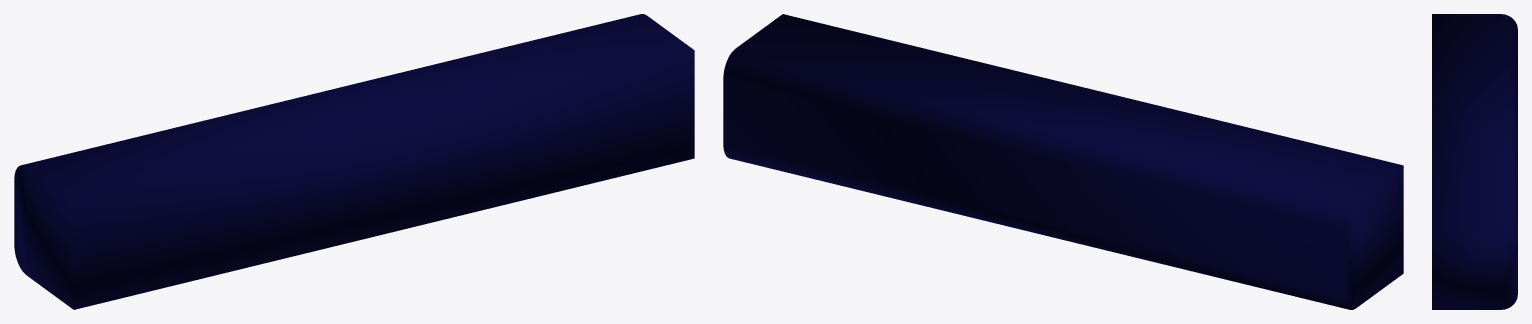
Rendered from frontWall.dae.
3 renders of one model, left to right at view 1: azimuth 30°, elevation 25°; view 2: azimuth 150°, elevation 25°; view 3: azimuth 270°, elevation 25°, orthographic. The views are drawn at different scales.
Visible parts, largest first — view 1: wall; view 2: wall; view 3: wall.
Part boxes in pixels (x1,y1,x2,y2): wall: [14, 14, 694, 309]; wall: [723, 14, 1403, 309]; wall: [1432, 14, 1517, 309].
Size of the model in its own units: 0.3006 by 0.05 by 0.05.
